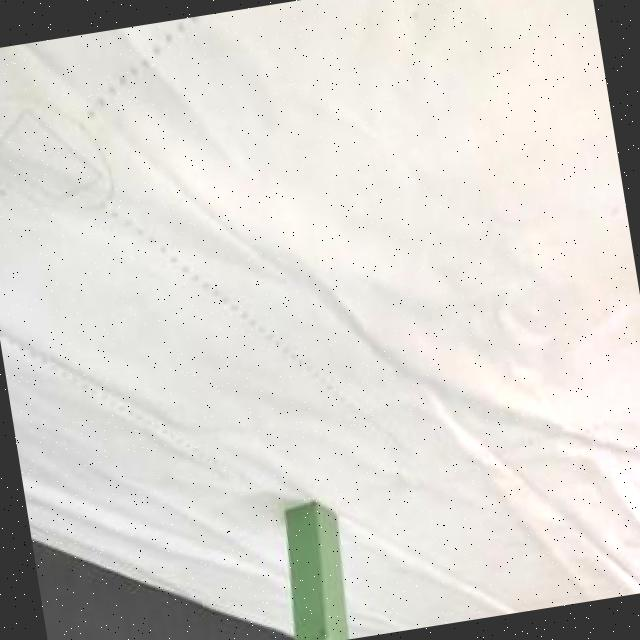greenbox: (270, 494, 359, 640)
